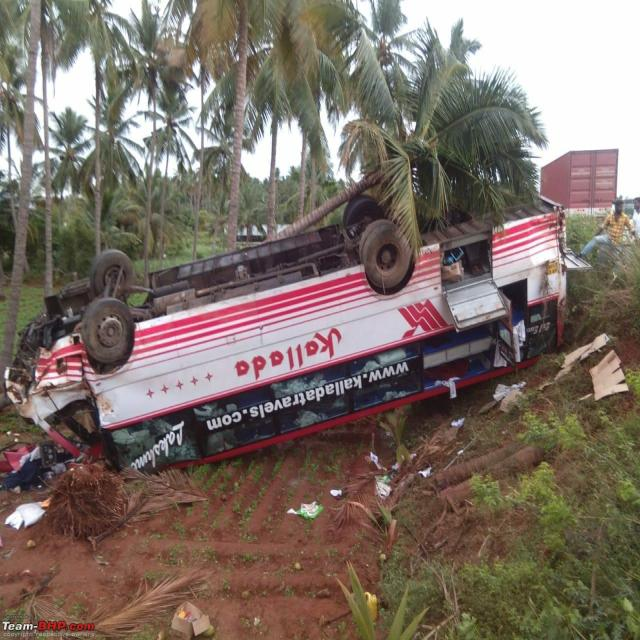accident: (0, 195, 566, 490)
